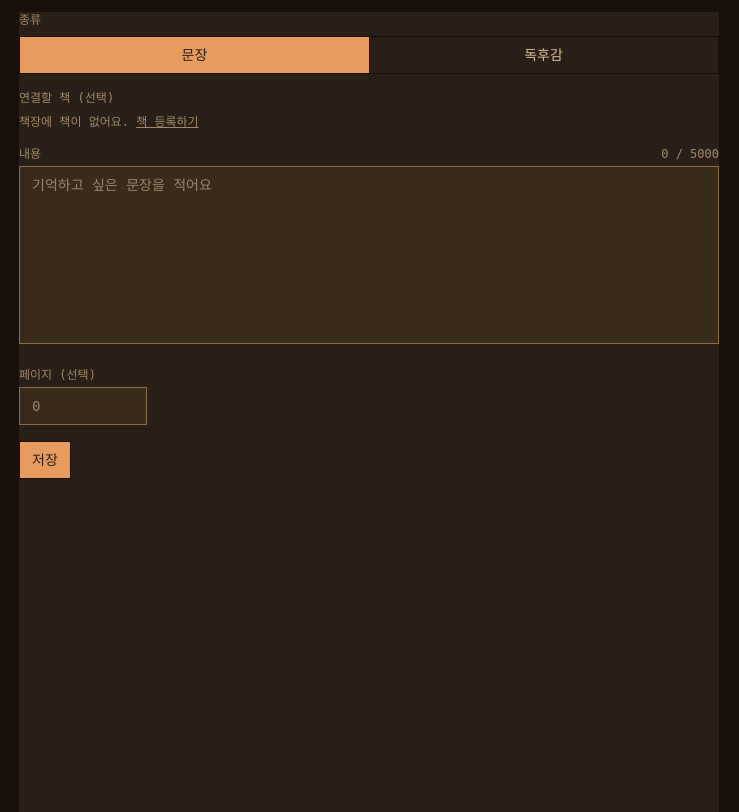
Scenario: DiaryEntryForm › 글자 수 카운터 › body 입력 시 글자 수를 표시한다
Expected: the text "0 / 5000" is shown, 661,146 -> 719,162
Type "안녕" into the text box labelled "내용" at (369, 255), box 19,166 -> 719,344
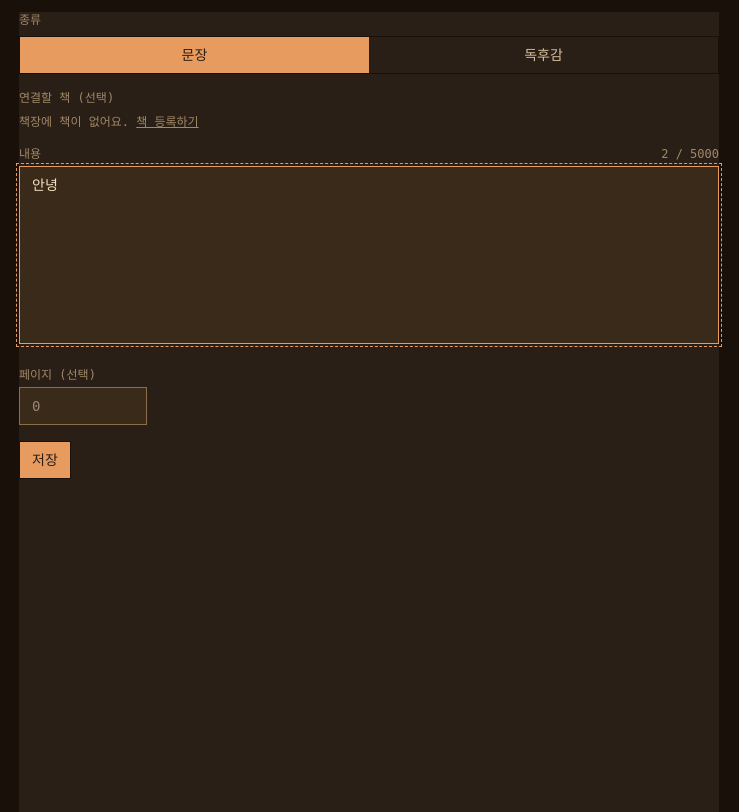
Now the text "2 / 5000" is shown, box 661,146 -> 719,162
